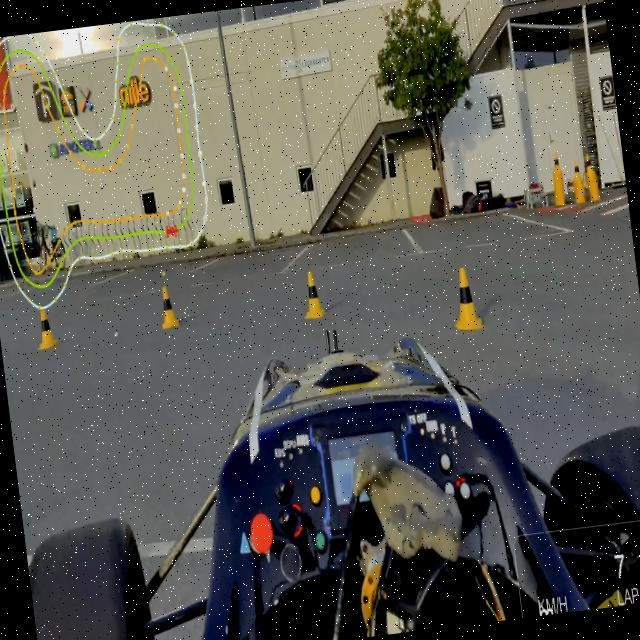yellow_cone: (434, 258, 491, 342), (26, 296, 70, 364), (148, 274, 186, 344), (296, 260, 332, 330)
